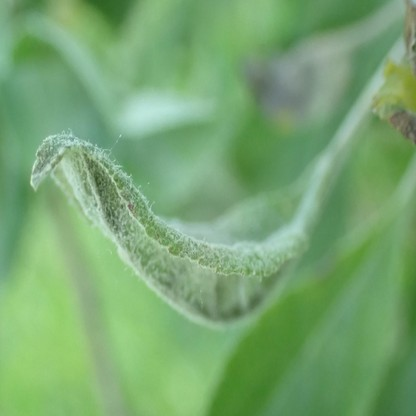powdery_mildew: (30, 129, 311, 330)
